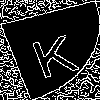K: (24, 25, 82, 79)
